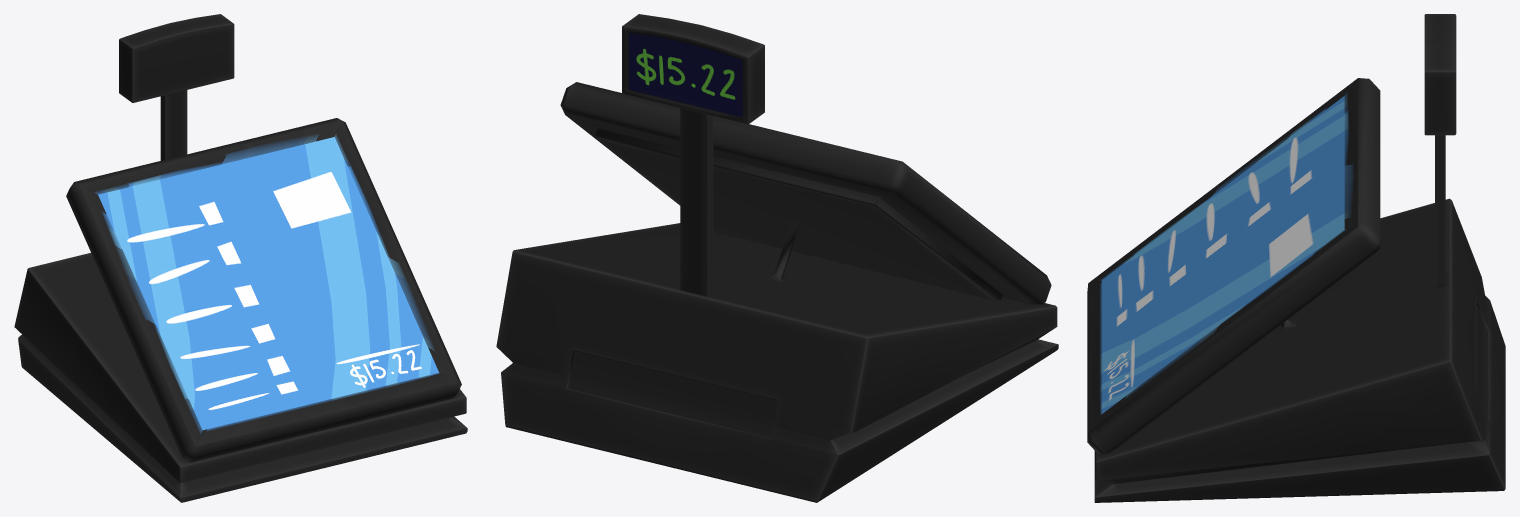
Rendered from BillingMachine.fbx.
The picture shows the model from 3 angles, left to right: view 1: azimuth 30°, elevation 25°; view 2: azimuth 150°, elevation 25°; view 3: azimuth 270°, elevation 25°; orthographic projection. The views are drawn at different scales.
Visible parts, largest first — view 1: BillingMachine; view 2: BillingMachine; view 3: BillingMachine.
Boxes of the visible parts, left/top/right/bottom form: BillingMachine: left=14, top=14, right=467, bottom=502; BillingMachine: left=496, top=14, right=1058, bottom=502; BillingMachine: left=1087, top=14, right=1505, bottom=502.
Bounding box in the file's own units: 57.34 × 63.19 × 62.34.
